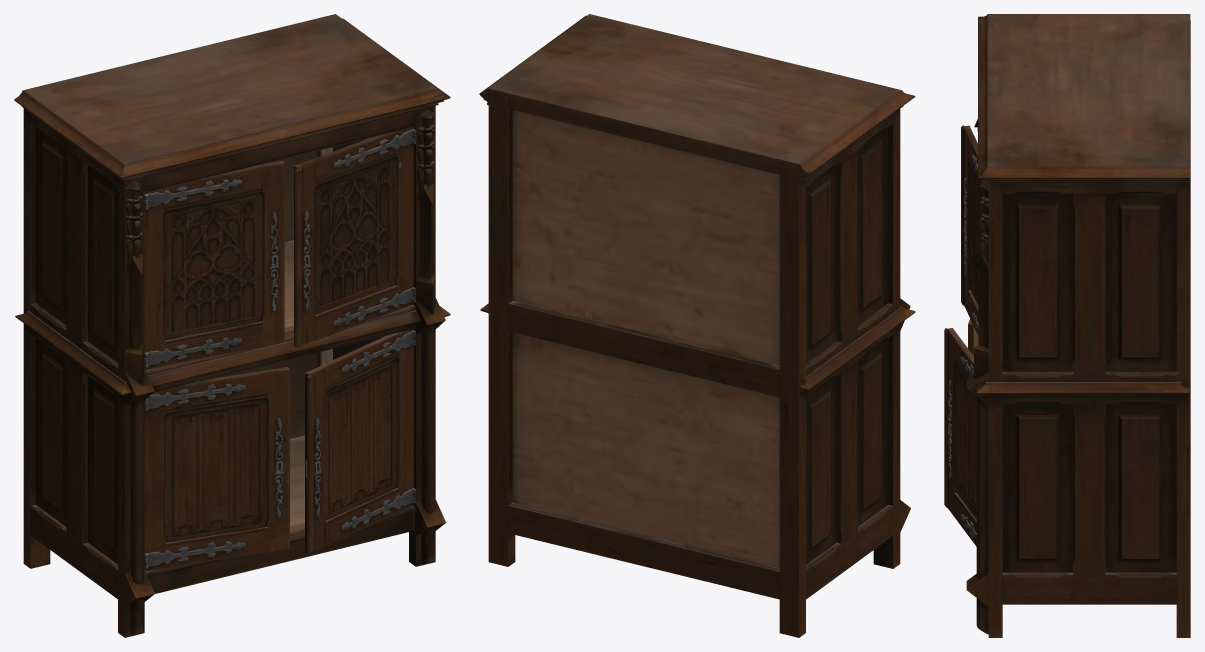
3 renders of one model, left to right at view 1: azimuth 30°, elevation 25°; view 2: azimuth 150°, elevation 25°; view 3: azimuth 270°, elevation 25°, orthographic.
Visible parts, largest first — view 1: GothicCabinet_01_cabinet; view 2: GothicCabinet_01_cabinet; view 3: GothicCabinet_01_cabinet.
Boxes of the visible parts, x1,y1,x2,y2 form: GothicCabinet_01_cabinet: (14,14,450,637); GothicCabinet_01_cabinet: (479,14,915,637); GothicCabinet_01_cabinet: (944,14,1190,637).
Bounding box in the file's own units: 1.72 × 2.36 × 1.12.
1 material, 1 textured.
